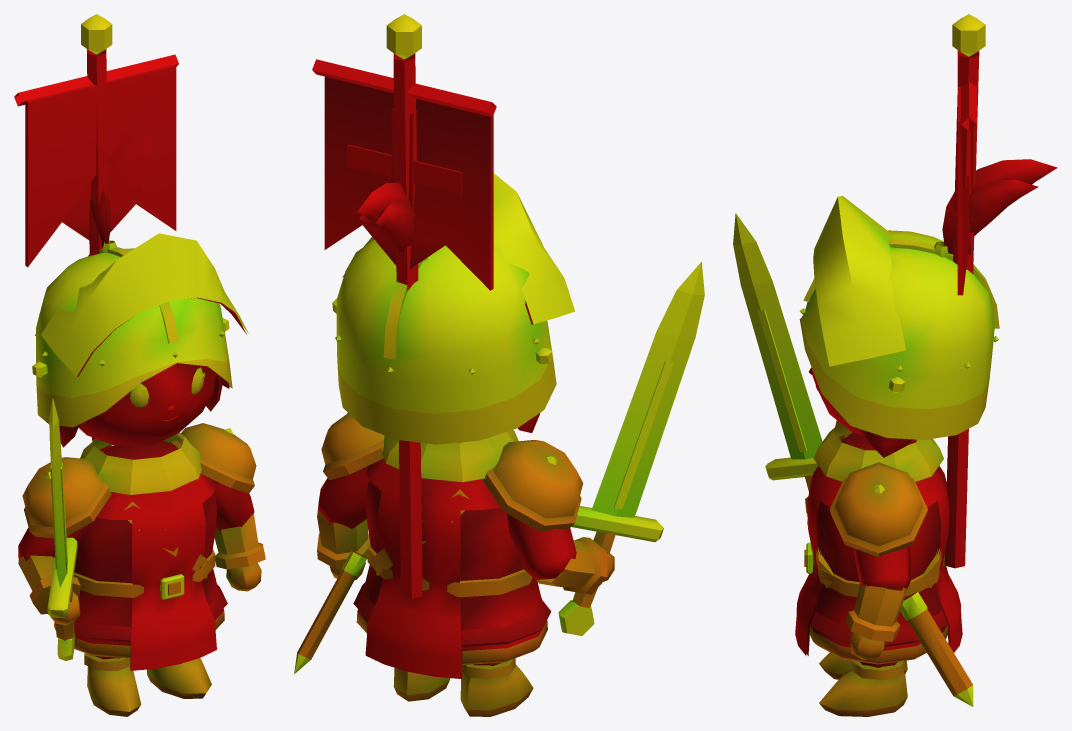
File: Officer.glb
3 renders of one model, left to right at view 1: azimuth 30°, elevation 25°; view 2: azimuth 150°, elevation 25°; view 3: azimuth 270°, elevation 25°, orthographic. The views are drawn at different scales.
Parts seen in each view (by area): view 1: Officer; view 2: Officer; view 3: Officer.
Part boxes in pixels (bbox=[...]): Officer: bbox=[14, 14, 265, 716]; Officer: bbox=[294, 14, 704, 716]; Officer: bbox=[733, 14, 1057, 716].
Bounding box in the file's own units: 0.6003 × 1.33 × 0.5773.
